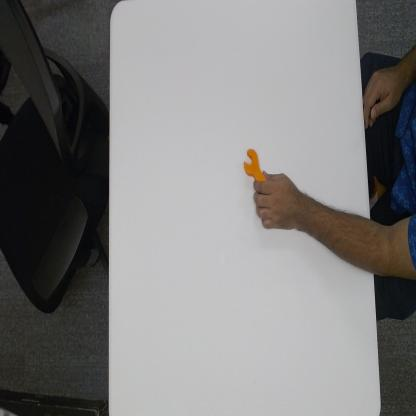Arm: (308, 183, 415, 285)
Hand: (252, 173, 304, 231)
Screwdriver: (240, 147, 268, 183)
